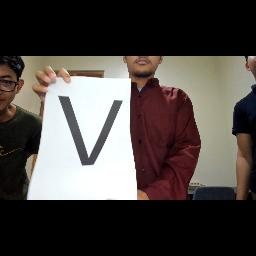v: (54, 89, 128, 171)
